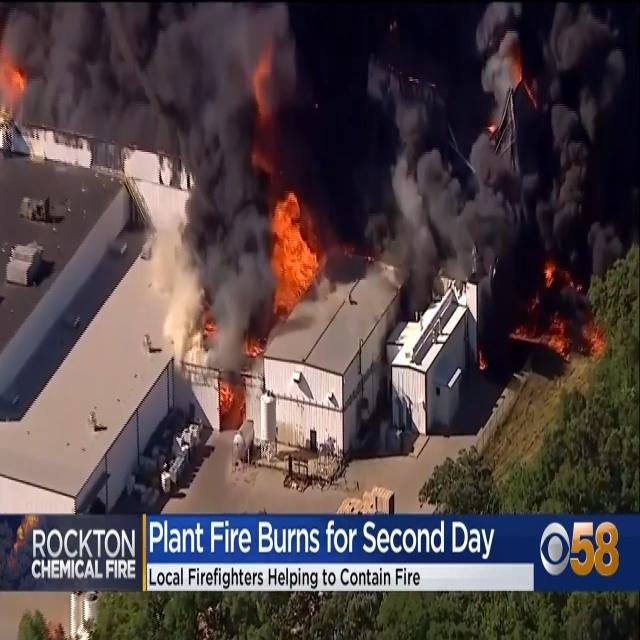Fire: (247, 64, 314, 292), (530, 262, 598, 363), (1, 52, 28, 114), (502, 42, 525, 112)
Smoke: (17, 4, 326, 163), (486, 0, 635, 262), (378, 114, 514, 267), (174, 142, 272, 353)
